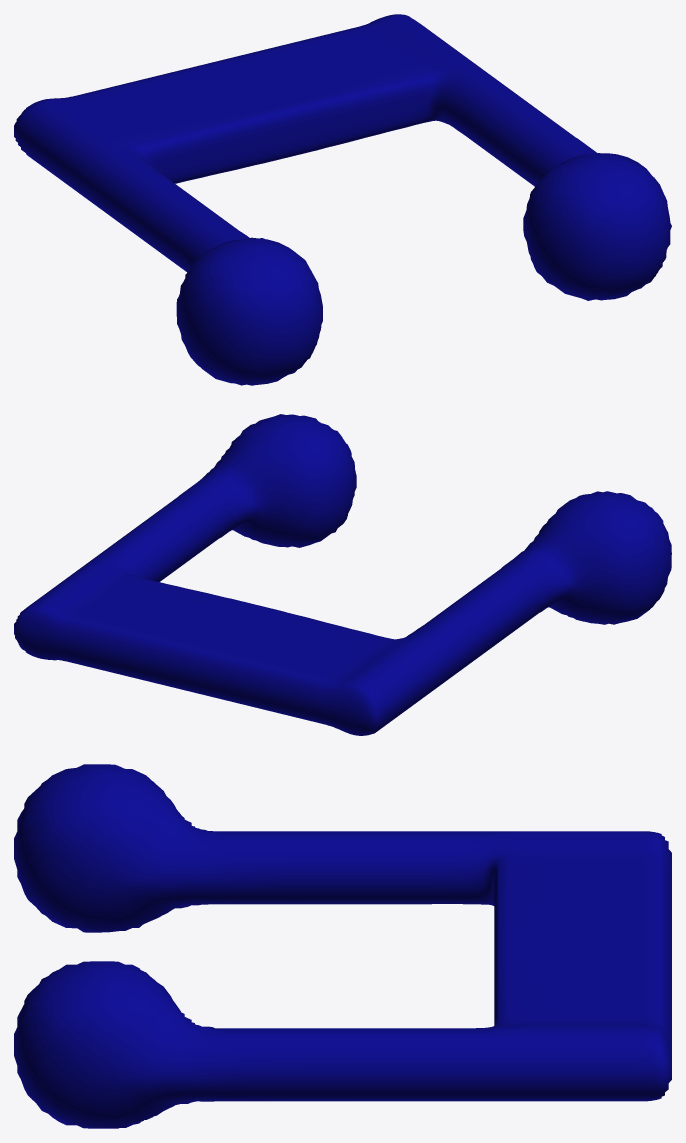
Rendered from music.obj.
3 views of the same model, one above another, from view 1: azimuth 30°, elevation 25°; view 2: azimuth 150°, elevation 25°; view 3: azimuth 270°, elevation 25° (orthographic). The views are drawn at different scales.
Size of the model in its own units: 183 by 48 by 189.
